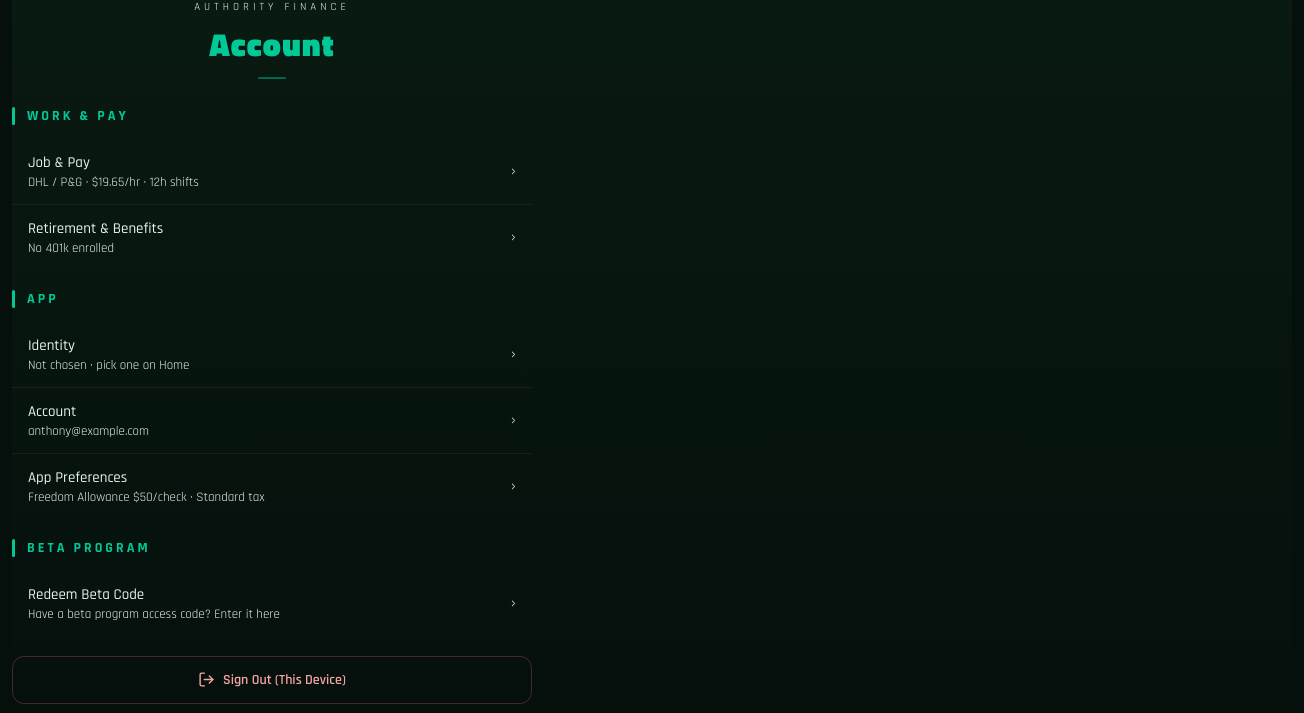
Test: ProfilePanel — Employment card (T5 DHL Team editor) is site-aware › Plant config still shows Team A/B pills (regression guard)
What coordinates should you click on to do the following:
click the text "Job & Pay"
I would click on:
 (59, 162)
Its box is [28,153,90,172].
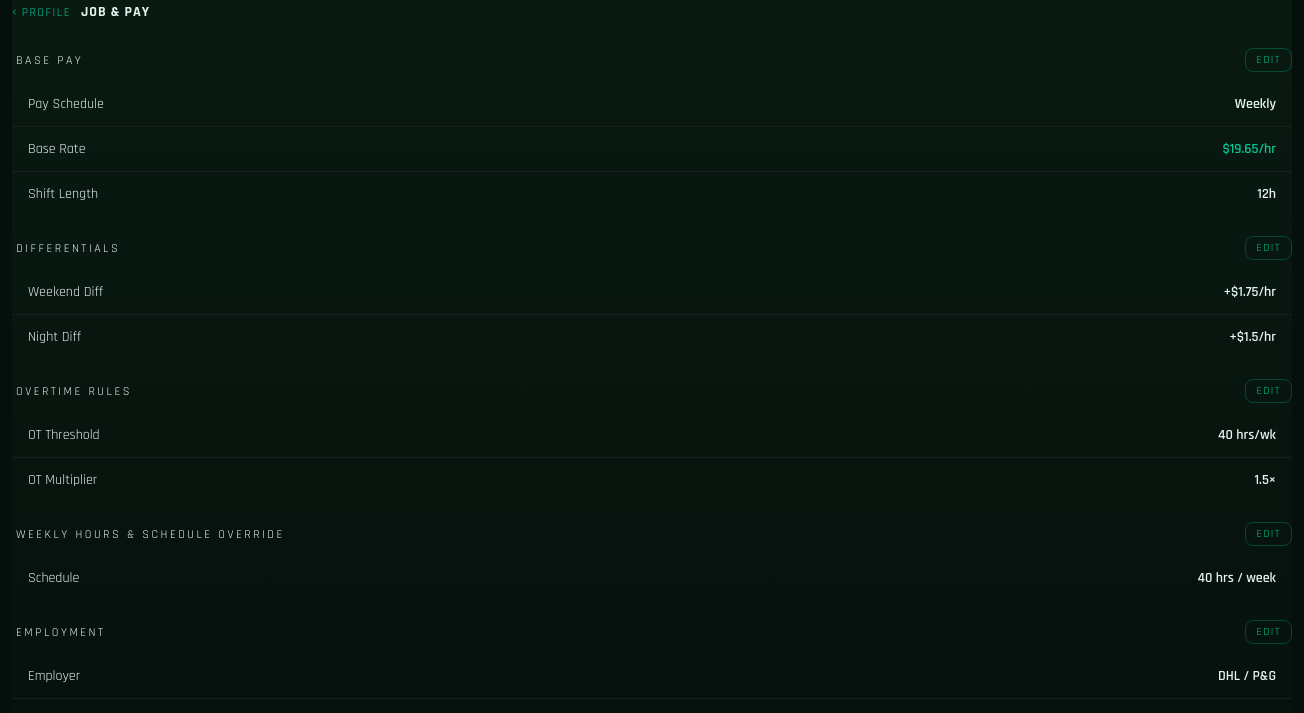
What coordinates should you click on to do the following:
click the button "Edit" in the row of "Employment"
I would click on:
 (1269, 632)
Its box is [1245,620,1292,644].
(page scrolled)
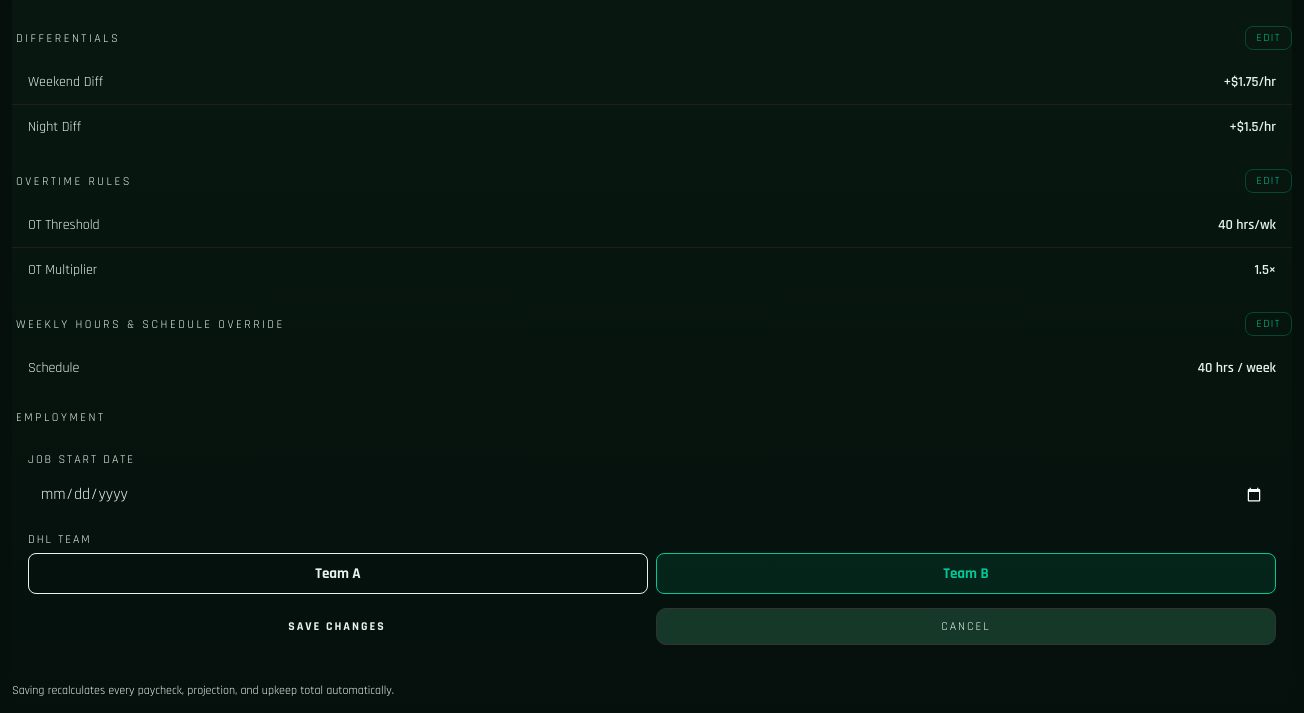
Expected: the button "Team B" is shown, [656,553,1276,594]
Expected: the button "Team A" is shown, [28,553,648,594]
